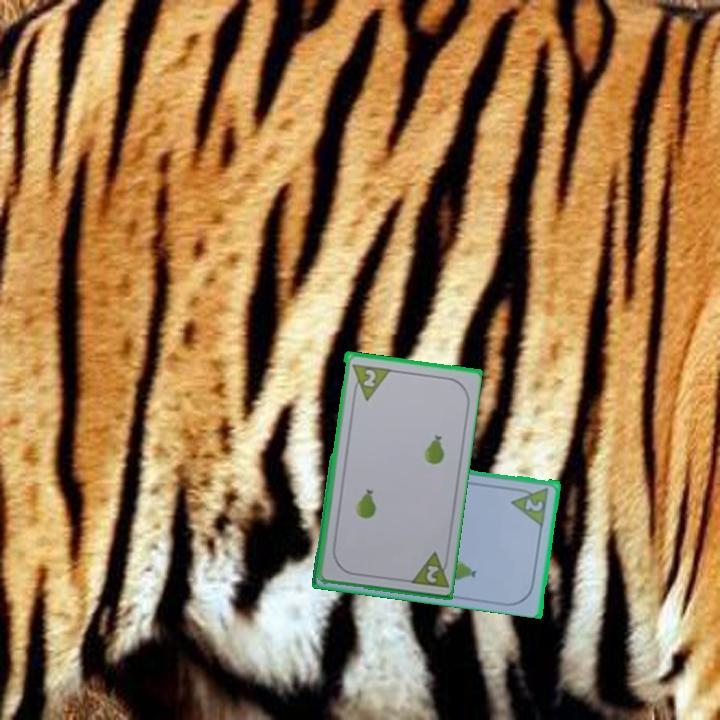2p: (405, 548, 451, 590), (509, 484, 552, 527), (348, 360, 391, 403)
